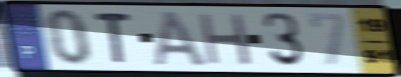0: (40, 7, 96, 68)
3: (261, 11, 307, 69)
7: (304, 11, 353, 70)
A: (152, 9, 211, 68)
H: (196, 11, 255, 67)
T: (92, 10, 134, 65)
